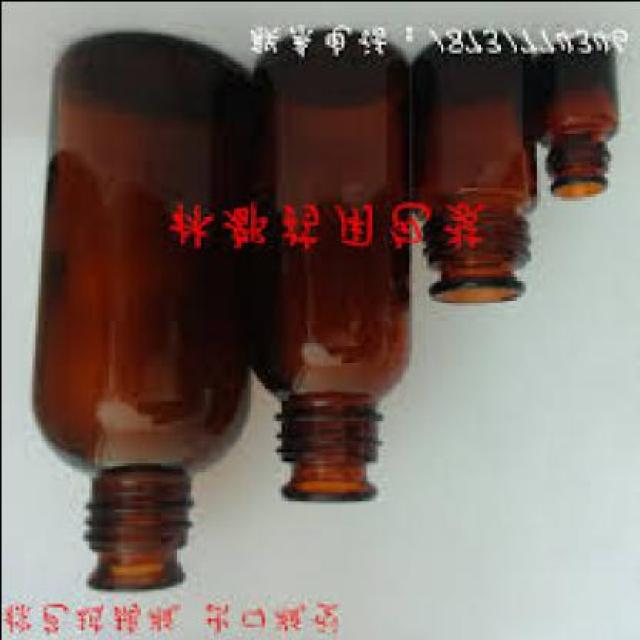glass: (28, 36, 255, 596), (242, 35, 403, 503), (411, 31, 535, 302), (532, 42, 612, 198)
